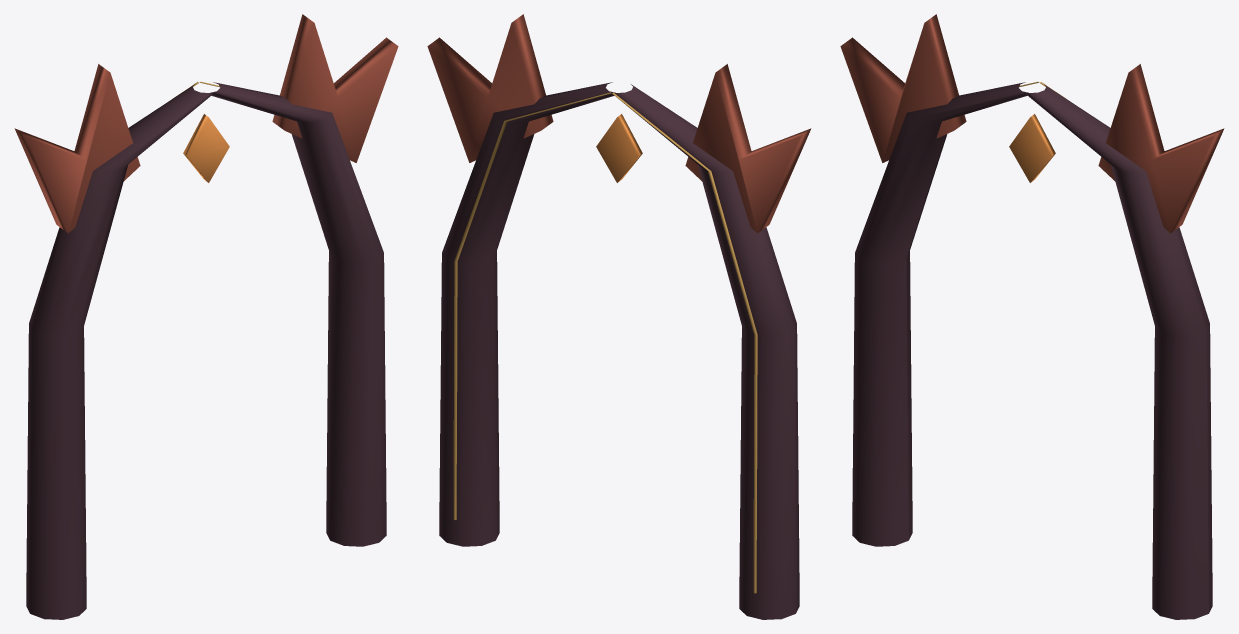
The model's file is prop_4_1.glb.
3 renders of one model, left to right at view 1: azimuth 30°, elevation 25°; view 2: azimuth 150°, elevation 25°; view 3: azimuth 330°, elevation 25°, orthographic.
Parts seen in each view (by area): view 1: ArchPier (×2), Crown (×2), ArchSeal; view 2: ArchPier (×2), Crown (×2), ArchInlay (×2), ArchSeal; view 3: ArchPier (×2), Crown (×2), ArchSeal.
Part boxes in pixels (x1,y1,x2,y2): ArchPier (×2): (26, 82, 386, 619); Crown (×2): (14, 14, 398, 233); ArchSeal: (183, 114, 229, 182); ArchPier (×2): (439, 82, 799, 619); Crown (×2): (427, 14, 811, 233); ArchInlay (×2): (453, 92, 757, 593); ArchSeal: (596, 114, 642, 182); ArchPier (×2): (852, 82, 1212, 619); Crown (×2): (840, 14, 1224, 233); ArchSeal: (1009, 114, 1055, 182).
Bounding box in the file's own units: 6.2 × 8.4 × 0.8522.
